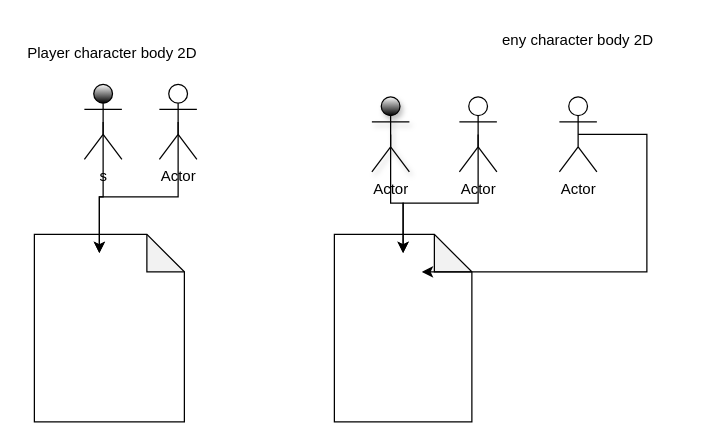
Image size: 705x444. Some labels were removed from this diagram. The shapes that lost their labels are listed below. From the top down, each one's centre as x and y in pixels, then its label:
point 108,327: All the players inherits the same script
point 402,327: Inherits the same script eny script
